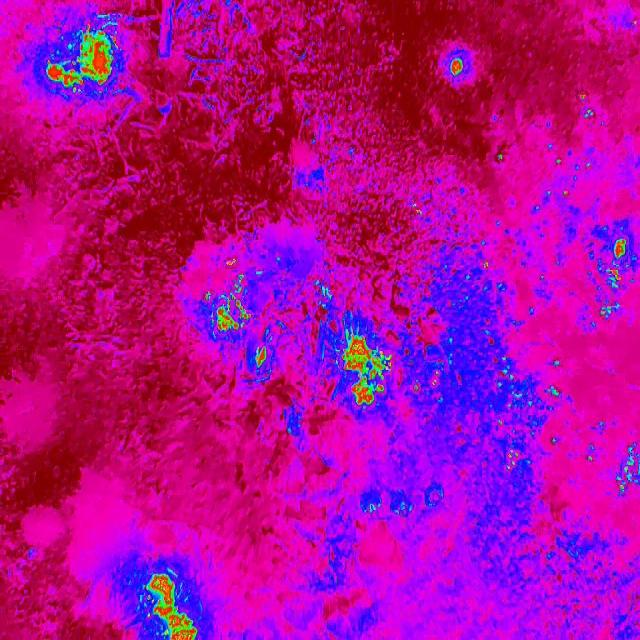fire: (505, 346, 640, 506), (498, 86, 604, 202), (45, 31, 116, 91), (337, 330, 390, 410), (143, 572, 199, 640), (206, 256, 252, 334), (598, 261, 626, 321), (411, 364, 443, 396), (610, 234, 634, 268), (253, 344, 270, 371), (448, 56, 466, 78)
